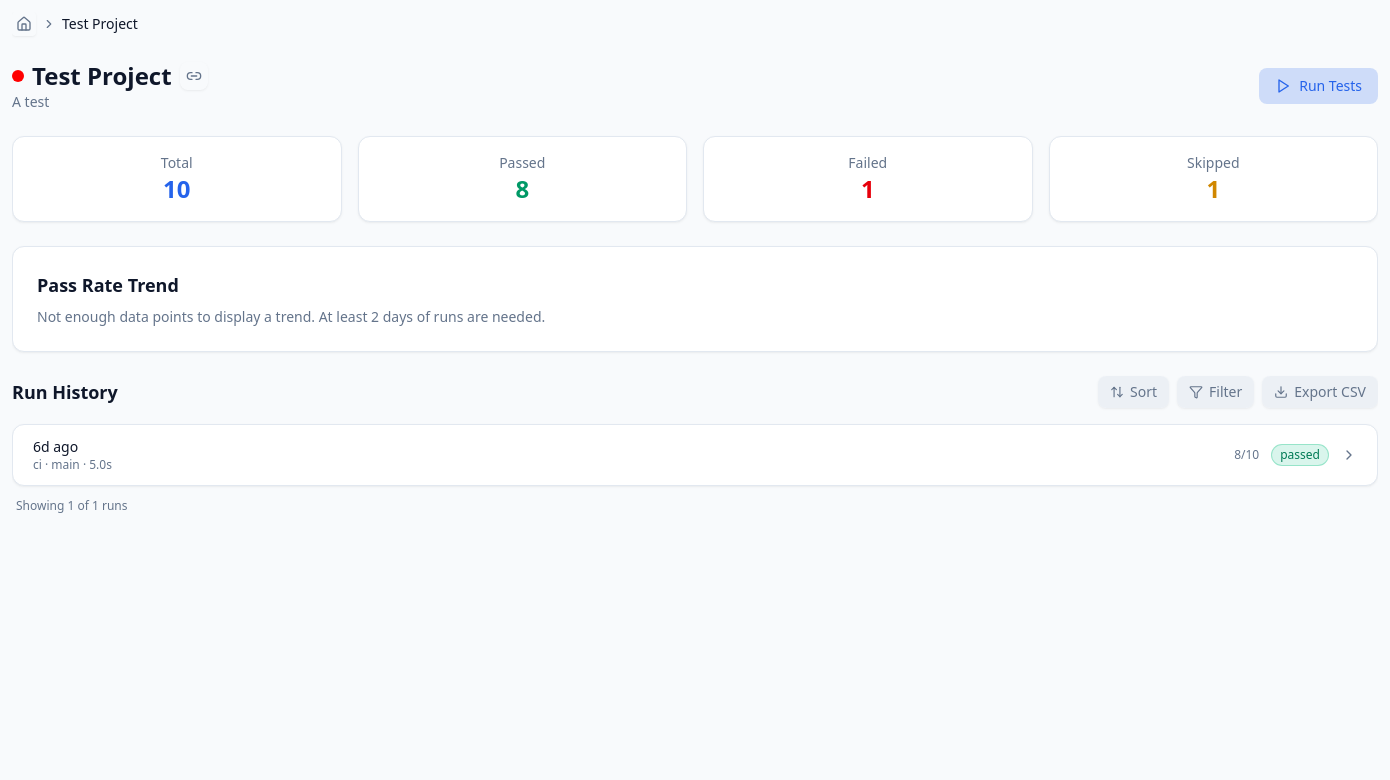
ProjectClient › shows "no runs match filters" and clears filters
This screenshot has width=1390, height=780.
Click the button with aria-label "toggle filters". click: x=1216, y=392
box: top-left (1177, 376), bottom-right (1254, 408)
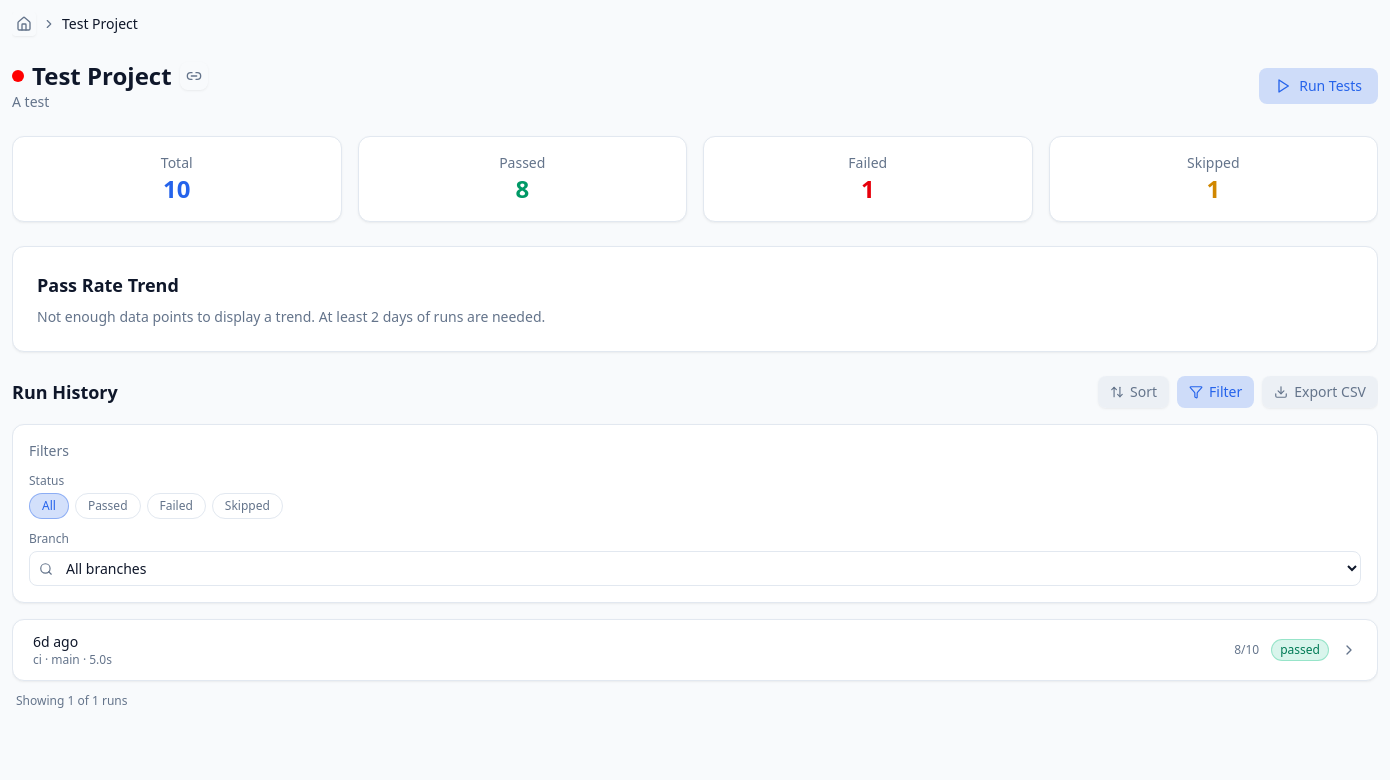
Filter to "skipped" - our run has status "passed" so it won't match
Click the radio button "Skipped". click: x=247, y=506
box: top-left (212, 493), bottom-right (283, 519)
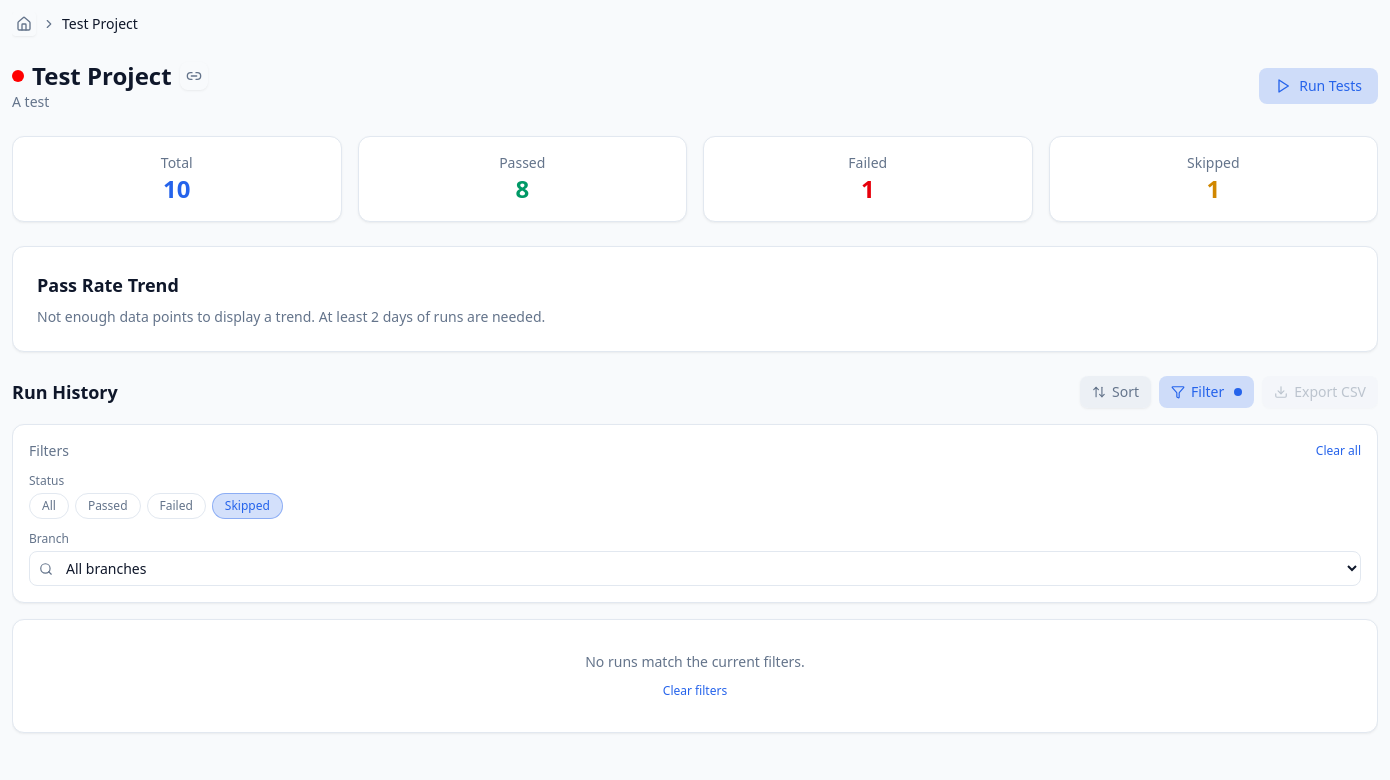
Check: the text "No runs match the current filters." is shown, box top-left (585, 652), bottom-right (805, 671)
Clear filters
Click the button "Clear filters". click: x=695, y=691
box: top-left (663, 683), bottom-right (727, 699)
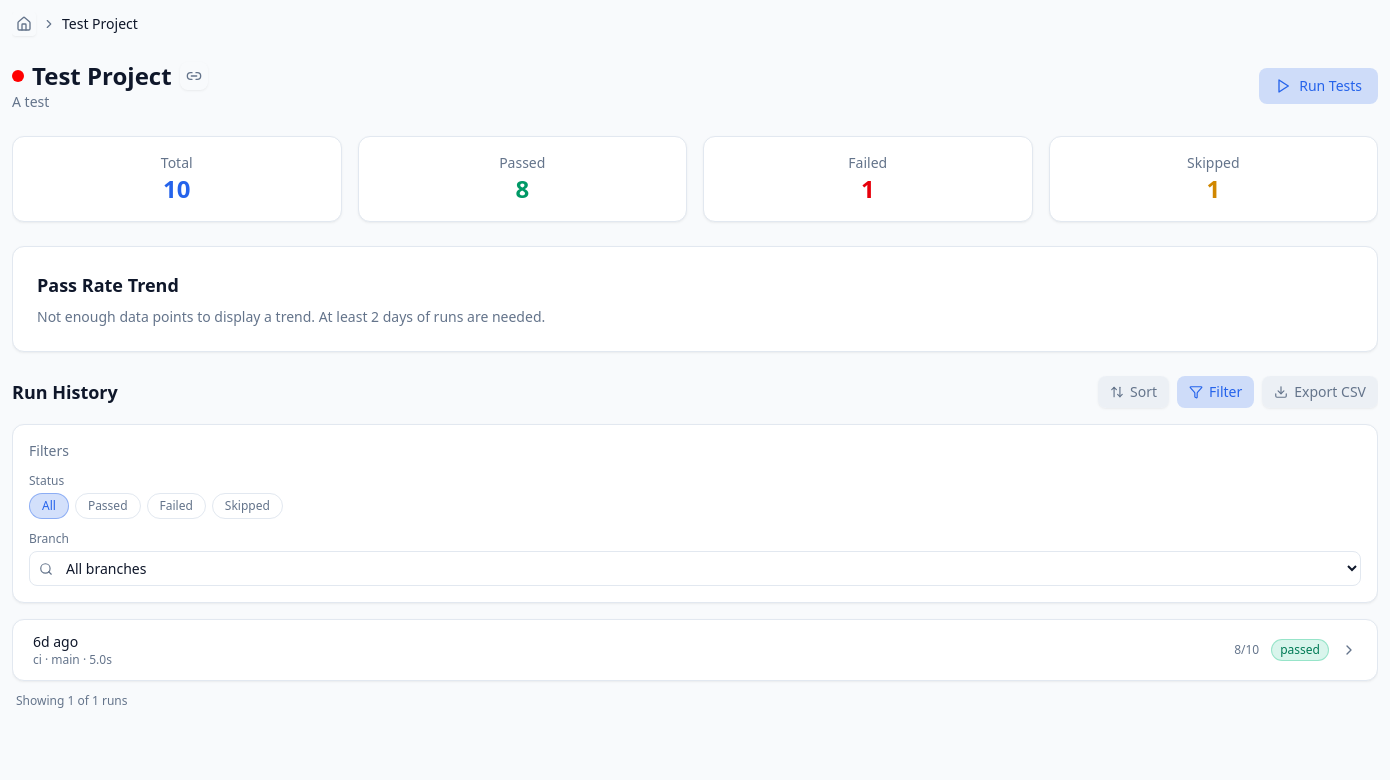
Check: the text "8/10" is shown, box top-left (1234, 642), bottom-right (1259, 658)
